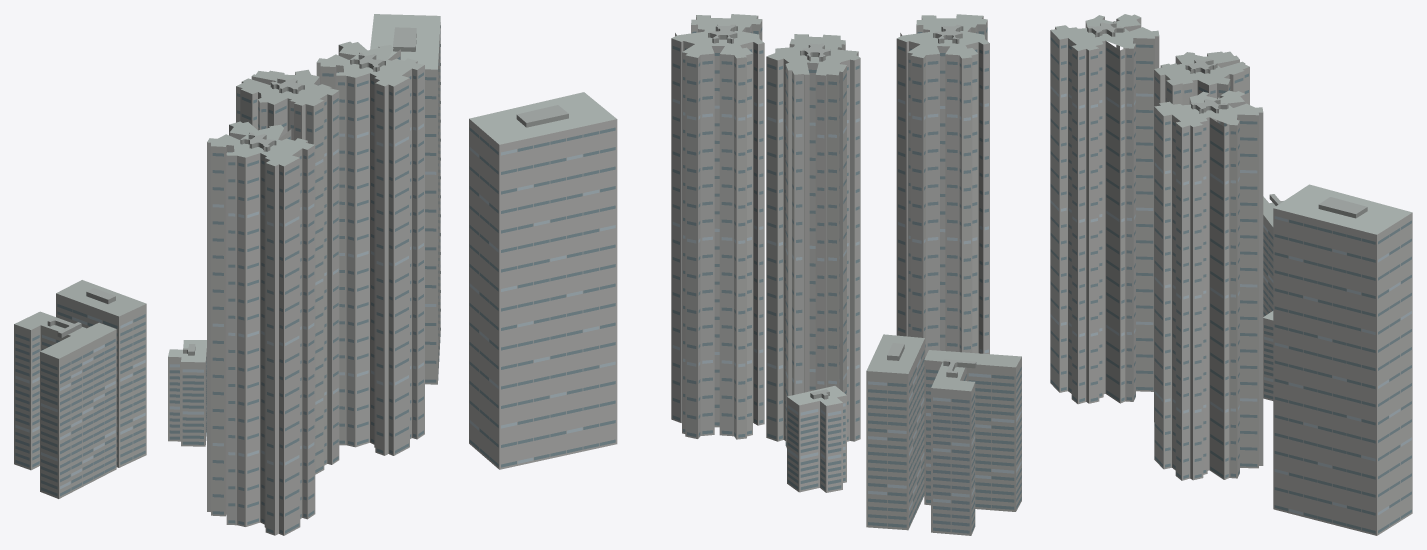
Rendered from apt-a10023083.glb.
3 renders of one model, left to right at view 1: azimuth 30°, elevation 25°; view 2: azimuth 150°, elevation 25°; view 3: azimuth 270°, elevation 25°, orthographic. The views are drawn at different scales.
Parts seen in each view (by area): view 1: apt-a10023083; view 2: apt-a10023083; view 3: apt-a10023083.
Boxes of the visible parts, box(x1,y1,x2,y2) form: apt-a10023083: box(14, 14, 440, 535); apt-a10023083: box(469, 14, 1021, 535); apt-a10023083: box(1050, 14, 1412, 535).
Size of the model in its own units: 259 by 199 by 183.
